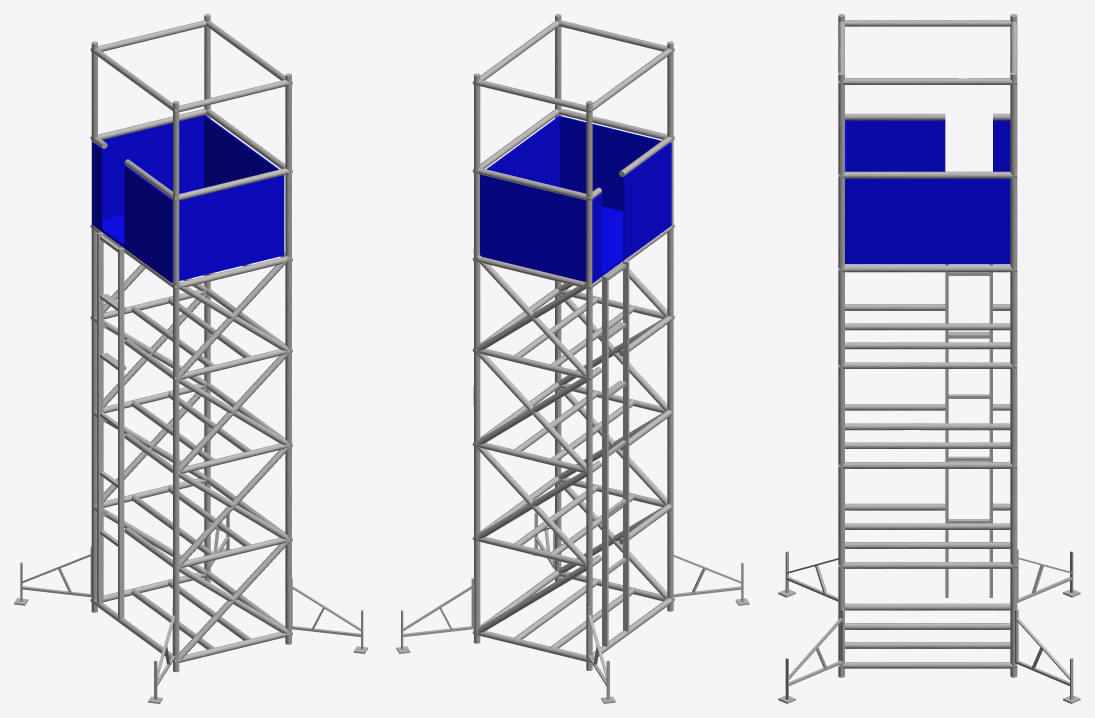
File: 移动脚手架.fbx
The picture shows the model from 3 angles, left to right: view 1: azimuth 30°, elevation 25°; view 2: azimuth 150°, elevation 25°; view 3: azimuth 270°, elevation 25°; orthographic projection. The views are drawn at different scales.
Visible parts, largest first — view 1: Steel, Carbon, 黄黑条纹 2, Default material; view 2: Steel, Carbon, 黄黑条纹 2, Default material; view 3: Steel, Carbon, 黄黑条纹 2, Default material.
Part boxes in pixels (x1,y1,x2,y2): Steel, Carbon: (14,14,367,703); 黄黑条纹 2: (92,115,284,282); Default material: (97,232,126,619); Steel, Carbon: (396,14,749,703); 黄黑条纹 2: (480,116,671,283); Default material: (600,260,629,646); Steel, Carbon: (778,14,1080,703); 黄黑条纹 2: (845,120,1010,264); Default material: (945,264,992,597).
Bounding box in the file's own units: 5.13 × 5.76 × 12.67.
